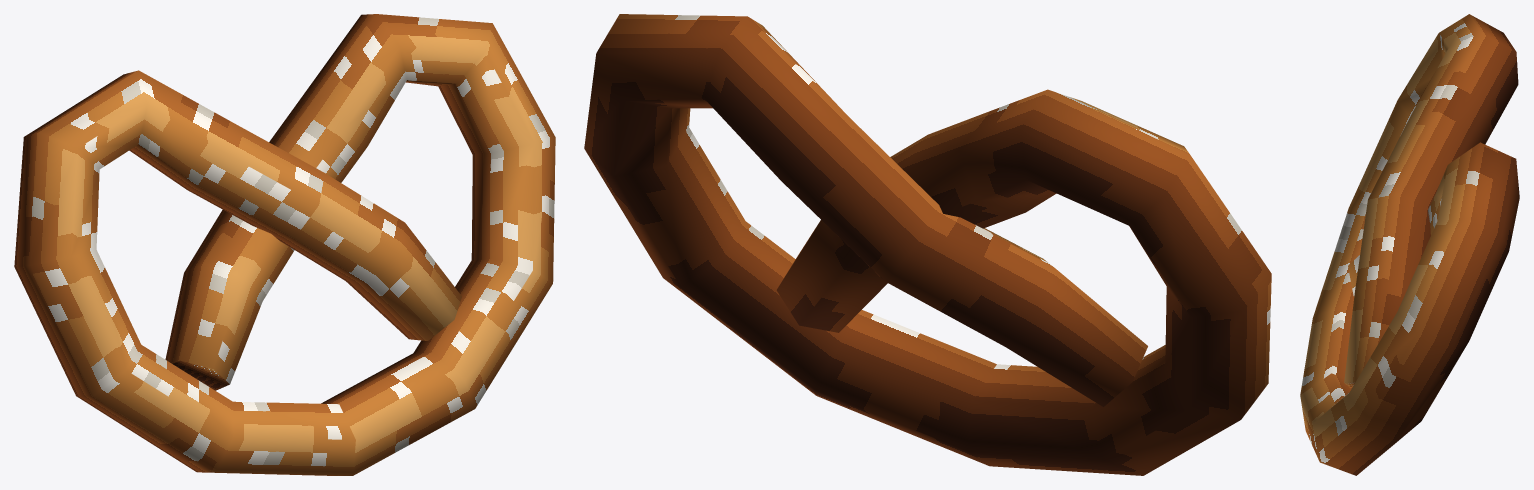
The model's file is food3-pretzel.glb.
The picture shows the model from 3 angles, left to right: view 1: azimuth 30°, elevation 25°; view 2: azimuth 150°, elevation 25°; view 3: azimuth 270°, elevation 25°; orthographic projection. The views are drawn at different scales.
Parts seen in each view (by area): view 1: food3.pretzel; view 2: food3.pretzel; view 3: food3.pretzel.
Boxes of the visible parts, bbox=[...] form: food3.pretzel: bbox=[14, 14, 555, 475]; food3.pretzel: bbox=[584, 14, 1271, 475]; food3.pretzel: bbox=[1300, 14, 1519, 475].
Bounding box in the file's own units: 1.89 × 1.31 × 0.7309.
Materials: 1 (1 with a texture image).
